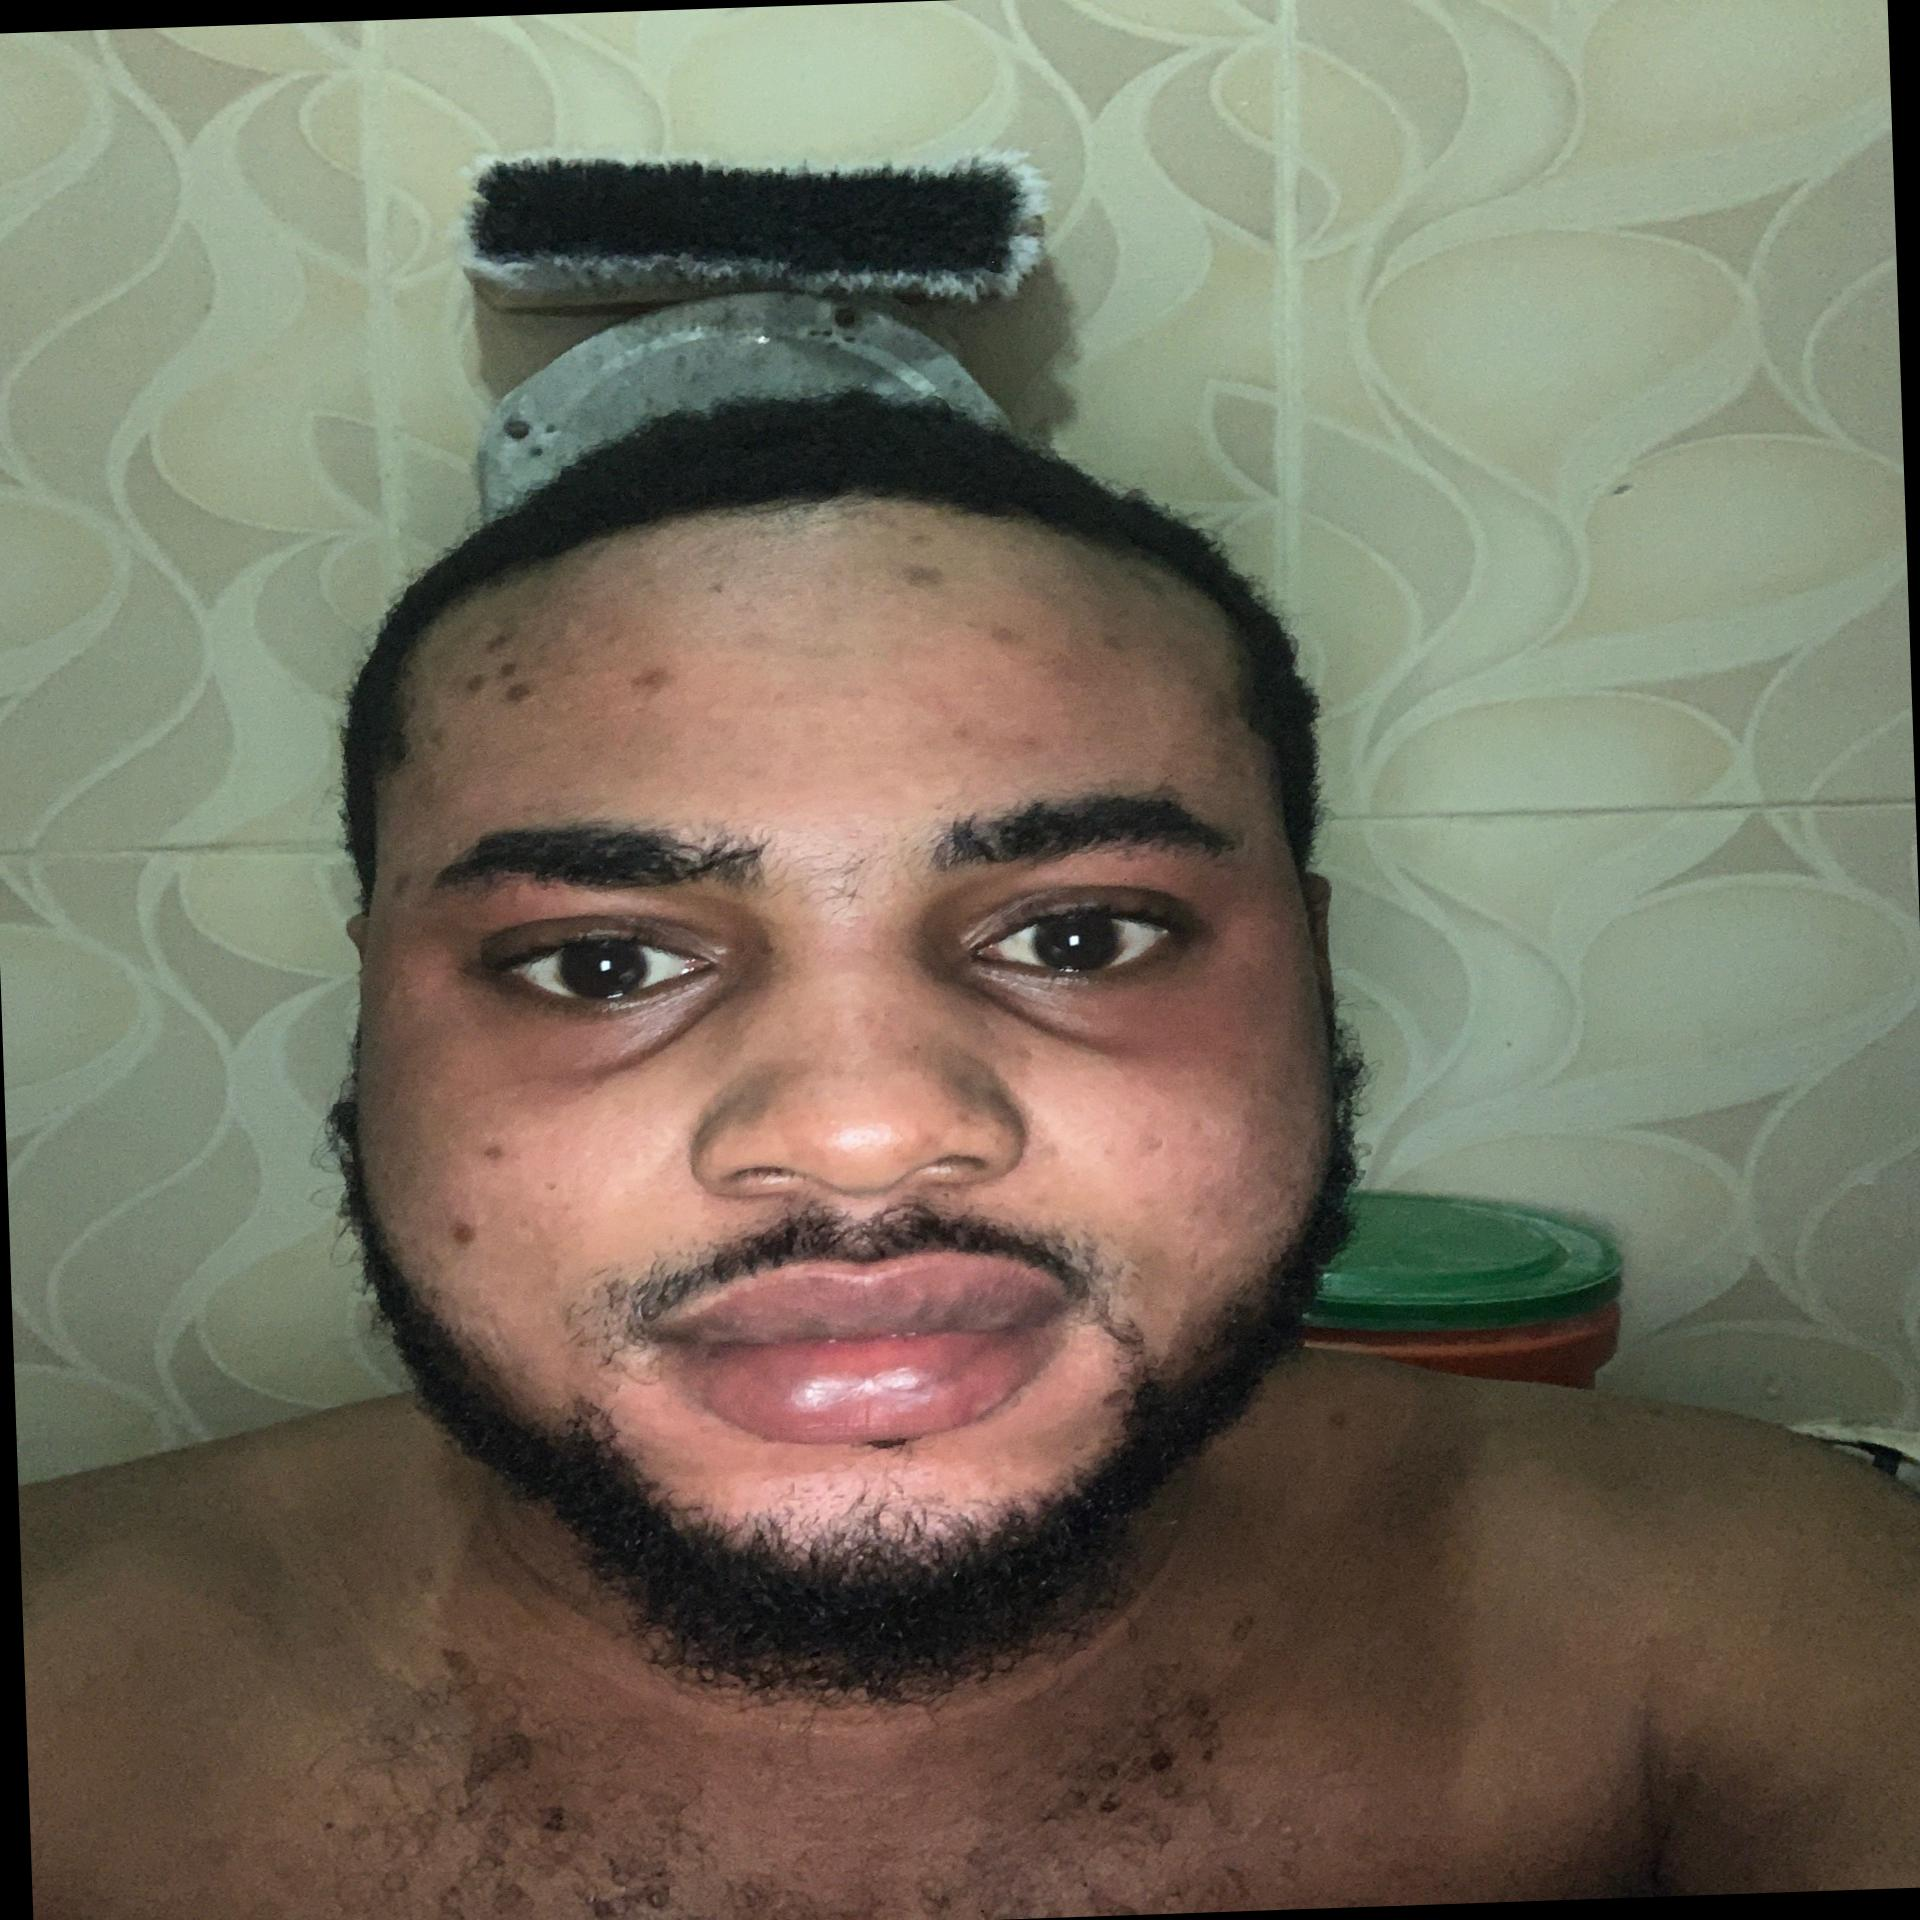Acne: (454, 617, 542, 714), (937, 709, 1064, 754), (895, 526, 951, 594), (958, 610, 1046, 652), (621, 659, 698, 703), (696, 538, 731, 608), (1118, 564, 1169, 605), (1192, 687, 1234, 735), (443, 1211, 485, 1259), (826, 679, 886, 710), (422, 716, 459, 758), (469, 1134, 515, 1166), (383, 863, 420, 902), (1097, 626, 1134, 659), (946, 1109, 986, 1138), (1006, 1037, 1041, 1065), (542, 1175, 563, 1192)
Dark Circles: (946, 939, 1247, 1065), (468, 969, 744, 1095)
Englarged Pores: (1111, 1076, 1296, 1285), (457, 1185, 584, 1259)
